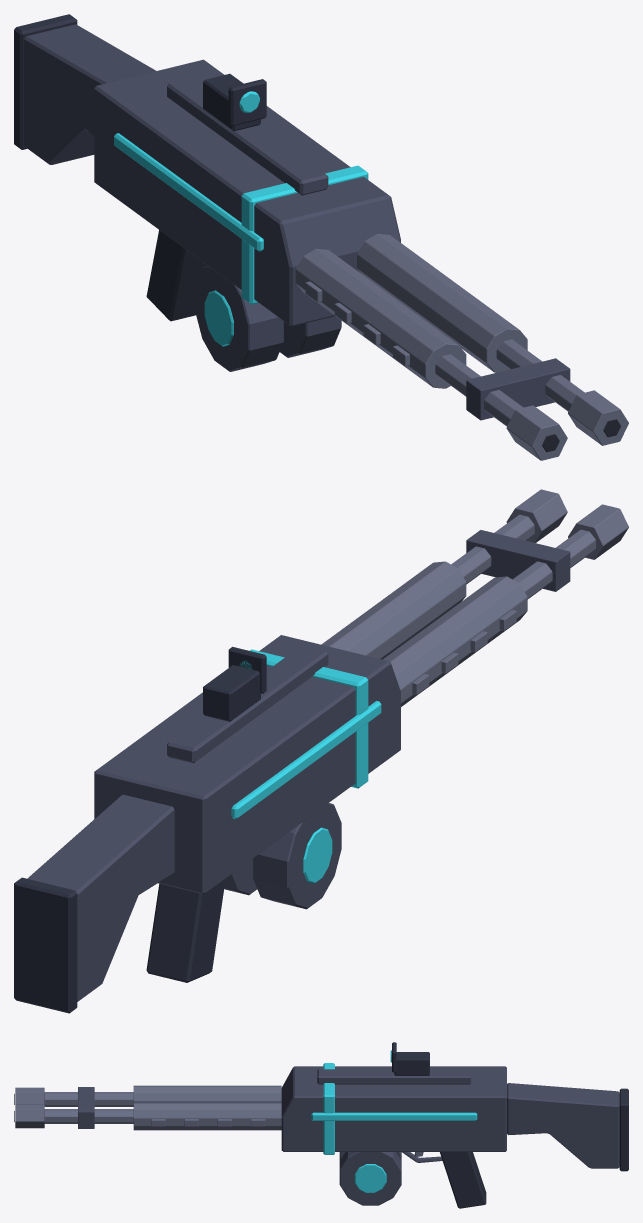
Rendered from myw_twinmachinegun.glb.
3 renders of one model, top to bottom at view 1: azimuth 30°, elevation 25°; view 2: azimuth 150°, elevation 25°; view 3: azimuth 270°, elevation 25°, orthographic. The views are drawn at different scales.
Parts seen in each view (by area): view 1: Body, Barrels, Drums, Sight; view 2: Body, Barrels, Drums, Sight; view 3: Body, Barrels, Drums, Sight.
Boxes of the visible parts, x1,y1,x2,y2 form: Body: [14, 14, 400, 326]; Barrels: [295, 234, 628, 460]; Drums: [195, 265, 341, 371]; Sight: [203, 73, 266, 131]; Body: [14, 635, 400, 1013]; Barrels: [321, 489, 628, 706]; Drums: [224, 803, 341, 909]; Sight: [203, 646, 266, 721]; Body: [281, 1063, 628, 1208]; Barrels: [14, 1085, 281, 1130]; Drums: [339, 1152, 401, 1205]; Sight: [390, 1042, 429, 1075].
Size of the model in its own units: 0.69 by 1.46 by 5.19.
